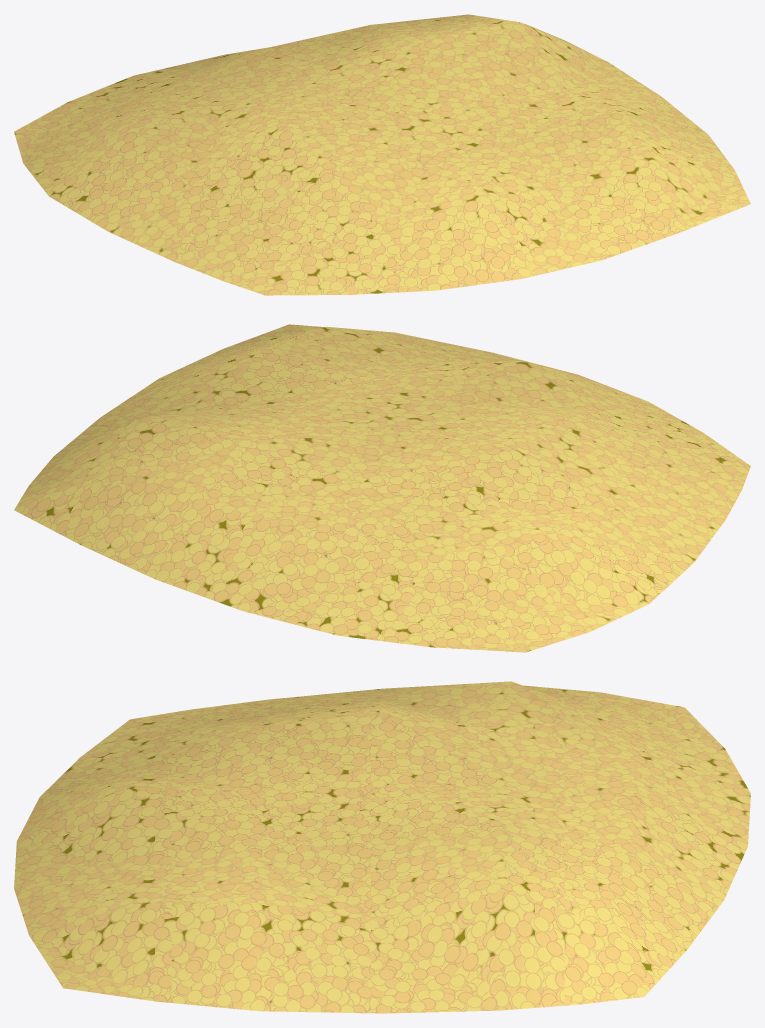
The model's file is gold_pile_1.fbx.
3 views of the same model, one above another, from view 1: azimuth 30°, elevation 25°; view 2: azimuth 150°, elevation 25°; view 3: azimuth 270°, elevation 25° (orthographic). The views are drawn at different scales.
Parts seen in each view (by area): view 1: gold_pile_1; view 2: gold_pile_1; view 3: gold_pile_1.
Boxes of the visible parts, x1,y1,x2,y2 form: gold_pile_1: [14, 14, 750, 295]; gold_pile_1: [14, 324, 750, 652]; gold_pile_1: [14, 681, 750, 1013].
Size of the model in its own units: 56.38 by 6.16 by 53.26.
Materials: 1 (1 with a texture image).
